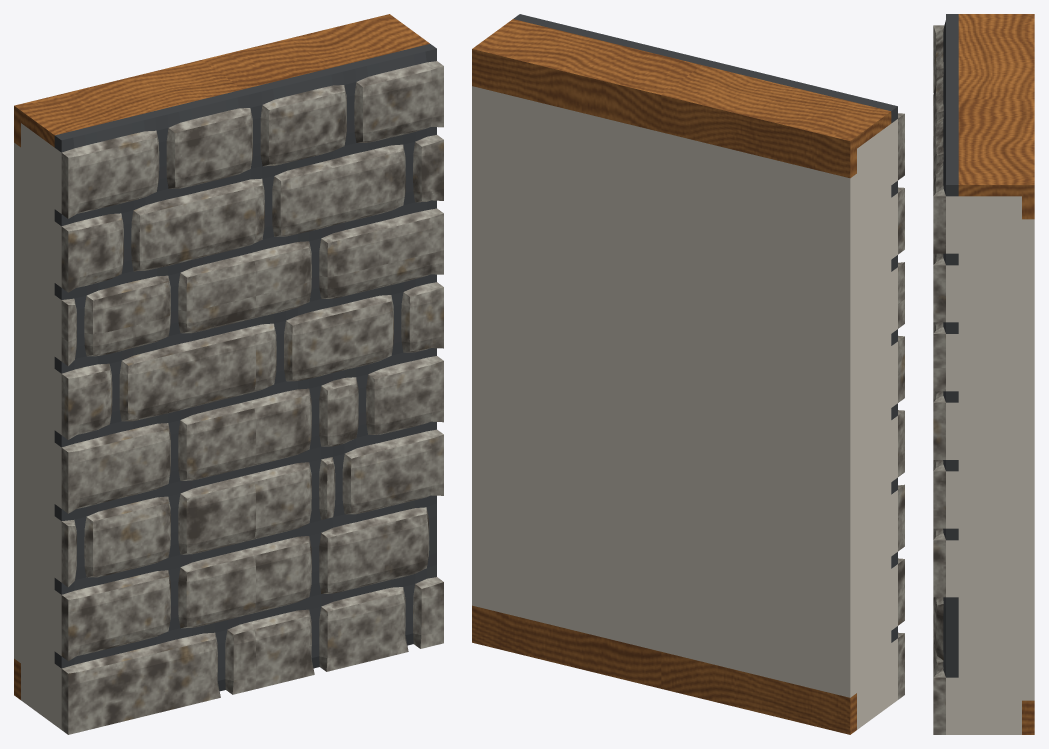
Rendered from wall_out_stone.glb.
3 renders of one model, left to right at view 1: azimuth 30°, elevation 25°; view 2: azimuth 150°, elevation 25°; view 3: azimuth 270°, elevation 25°, orthographic. The views are drawn at different scales.
Visible parts, largest first — view 1: town_wall_out_stone; view 2: town_wall_out_stone; view 3: town_wall_out_stone.
Boxes of the visible parts, left/top/right/bottom form: town_wall_out_stone: left=14, top=14, right=443, bottom=734; town_wall_out_stone: left=472, top=14, right=904, bottom=734; town_wall_out_stone: left=933, top=14, right=1034, bottom=734.
Size of the model in its own units: 1 by 1.5 by 0.25.
Materials: 3 (1 with a texture image).
